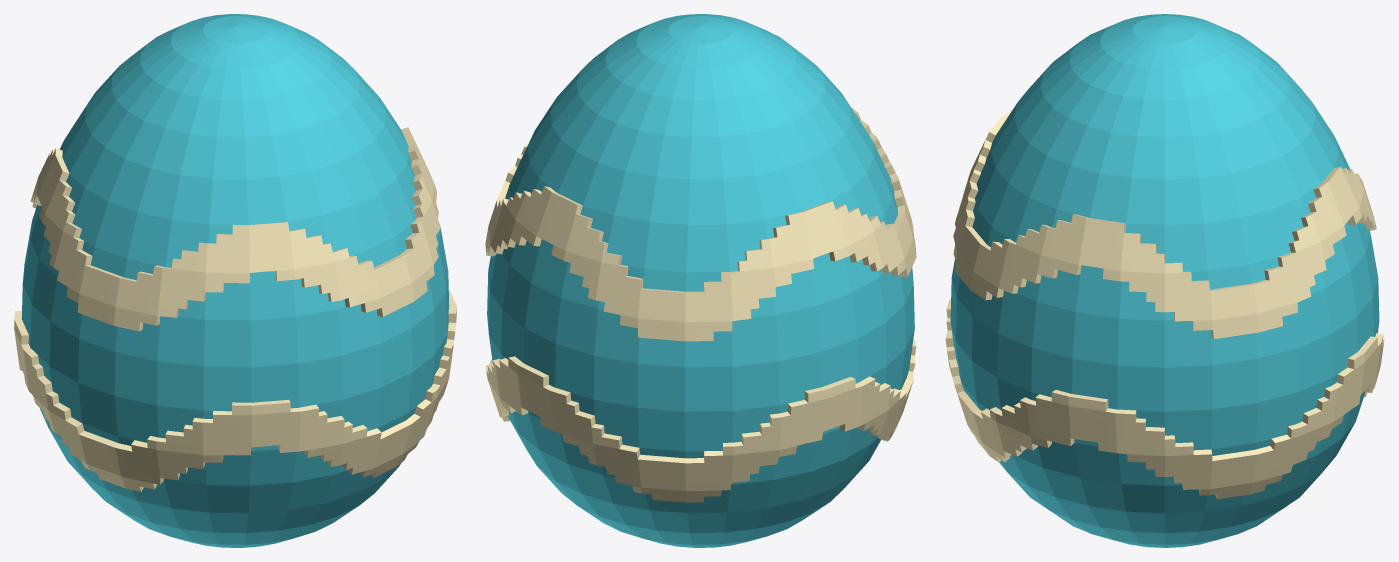
File: BeachEgg.fbx
3 views of the same model, side by side, from view 1: azimuth 30°, elevation 25°; view 2: azimuth 150°, elevation 25°; view 3: azimuth 270°, elevation 25° (orthographic).
Parts seen in each view (by area): view 1: Egg_4FCFE0, Egg_FFF1C1; view 2: Egg_4FCFE0, Egg_FFF1C1; view 3: Egg_4FCFE0, Egg_FFF1C1.
Part boxes in pixels (<box>): Egg_4FCFE0: <box>21,14,449,547</box>; Egg_FFF1C1: <box>14,127,456,491</box>; Egg_4FCFE0: <box>487,14,914,547</box>; Egg_FFF1C1: <box>485,107,916,502</box>; Egg_4FCFE0: <box>950,14,1379,547</box>; Egg_FFF1C1: <box>945,110,1384,499</box>.
Size of the model in its own units: 2.06 by 2.6 by 2.06.
